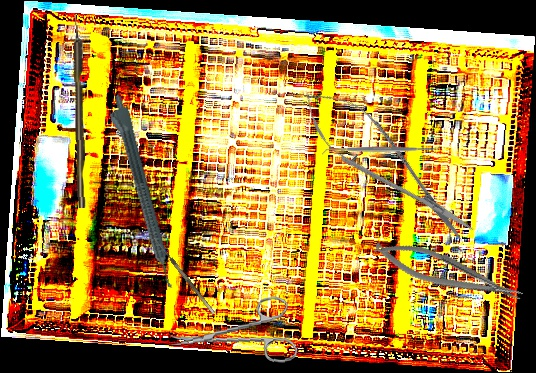Handpiece: (102, 92, 177, 293)
Hook Surgical: (145, 232, 216, 318), (73, 13, 86, 209)
Iris Scissors: (166, 294, 299, 373)
Micro Scissor: (287, 73, 487, 257)
Needle Holder: (370, 230, 526, 316)
Spatula Surgical: (322, 143, 440, 156)
